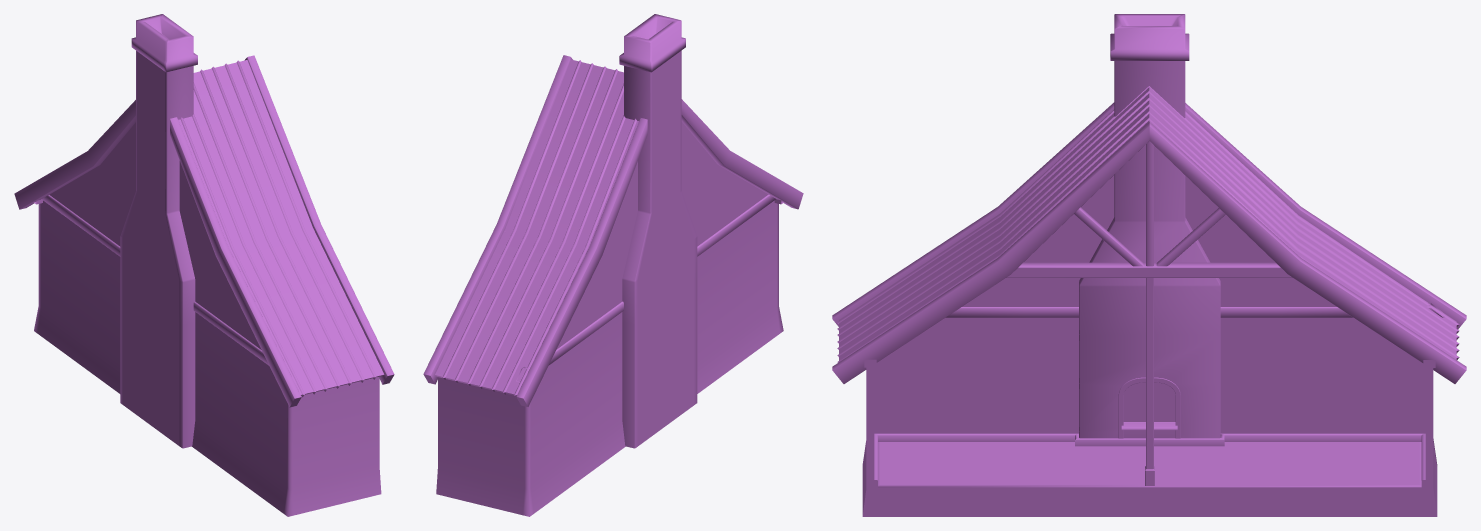
The model's file is Cabin2_End1.fbx.
The picture shows the model from 3 angles, left to right: view 1: azimuth 30°, elevation 25°; view 2: azimuth 150°, elevation 25°; view 3: azimuth 270°, elevation 25°; orthographic projection. The views are drawn at different scales.
Visible parts, largest first — view 1: Cabin2_End1; view 2: Cabin2_End1; view 3: Cabin2_End1.
Boxes of the visible parts, x1=… form: Cabin2_End1: x1=14, y1=14, x2=394, y2=516; Cabin2_End1: x1=423, y1=14, x2=803, y2=516; Cabin2_End1: x1=832, y1=14, x2=1466, y2=516.
Size of the model in its own units: 4.21 by 15 by 19.33.
